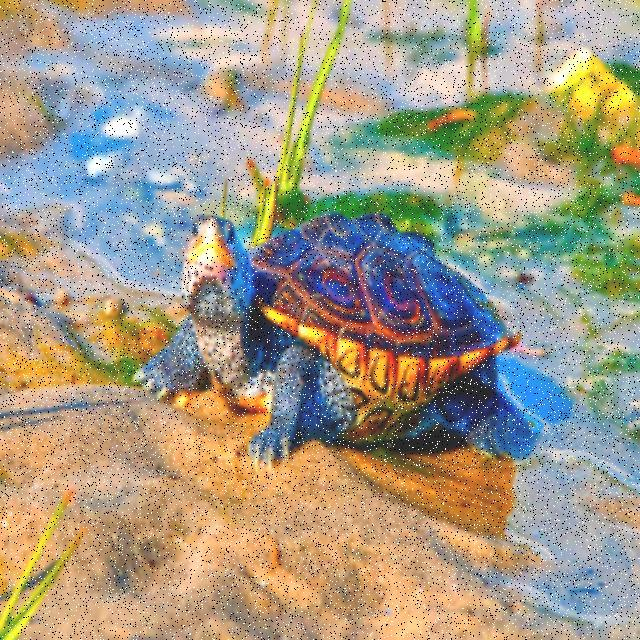tortoise: (142, 212, 526, 464)
